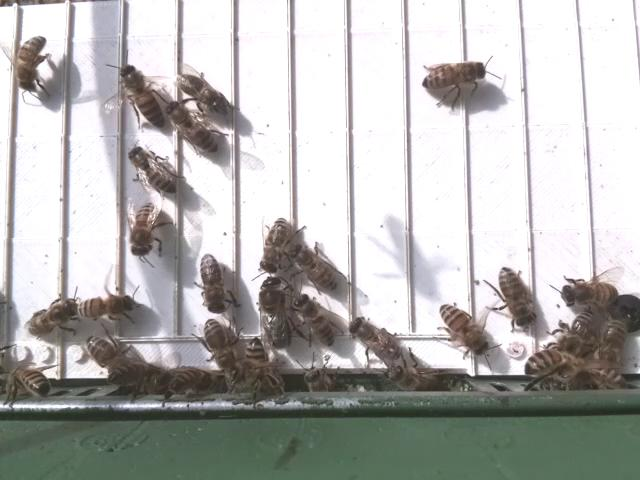Drone: (256, 272, 295, 351)
Worker: (118, 59, 169, 131), (495, 262, 541, 334), (165, 98, 222, 155), (438, 300, 491, 357), (345, 312, 404, 363), (174, 70, 234, 120), (125, 142, 177, 197), (419, 57, 489, 96), (10, 35, 51, 95), (22, 299, 81, 339), (256, 214, 294, 276), (558, 273, 620, 311), (293, 244, 342, 292), (296, 291, 337, 347), (199, 315, 239, 372), (196, 248, 229, 316), (76, 291, 141, 323), (82, 331, 129, 374), (127, 201, 161, 259), (1, 365, 55, 399)
